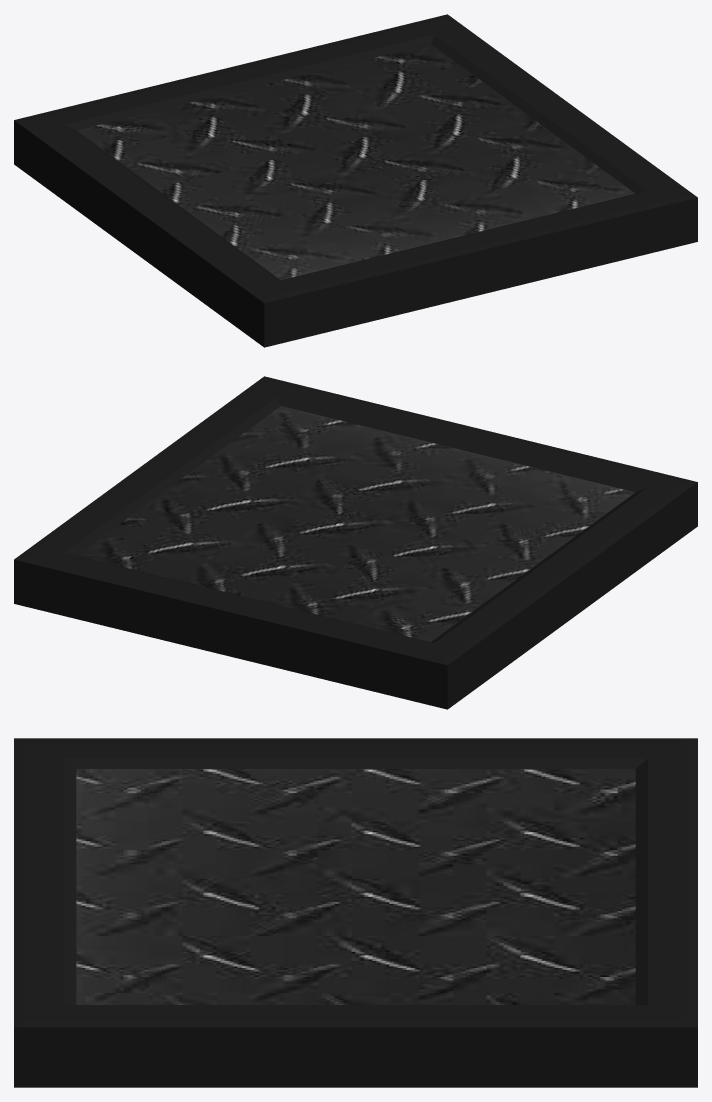
The model's file is floor_tile_alum.glb.
3 renders of one model, top to bottom at view 1: azimuth 30°, elevation 25°; view 2: azimuth 150°, elevation 25°; view 3: azimuth 270°, elevation 25°, orthographic. The views are drawn at different scales.
Visible parts, largest first — view 1: Cube; view 2: Cube; view 3: Cube.
Part boxes in pixels (left/top/right/bottom): Cube: left=14, top=14, right=697, bottom=347; Cube: left=14, top=376, right=697, bottom=709; Cube: left=14, top=738, right=697, bottom=1087.
Bounding box in the file's own units: 2 × 0.1987 × 2.
2 materials, 1 textured.
